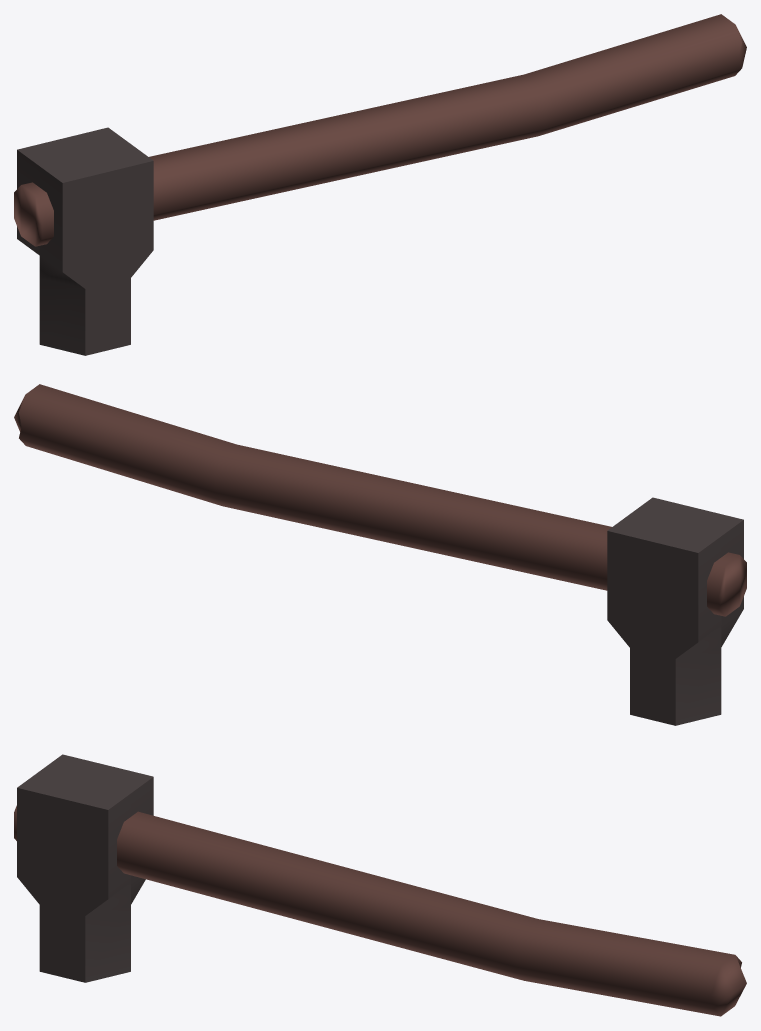
The model's file is Hammer.fbx.
The picture shows the model from 3 angles, top to bottom: view 1: azimuth 30°, elevation 25°; view 2: azimuth 150°, elevation 25°; view 3: azimuth 330°, elevation 25°; orthographic projection.
Visible parts, largest first — view 1: Smithing_hammer; view 2: Smithing_hammer; view 3: Smithing_hammer.
Part boxes in pixels (<box>): Smithing_hammer: <box>14,14,746,355</box>; Smithing_hammer: <box>14,384,746,725</box>; Smithing_hammer: <box>14,754,746,1016</box>.
Size of the model in its own units: 0.00627 by 0.0015 by 0.000696.
